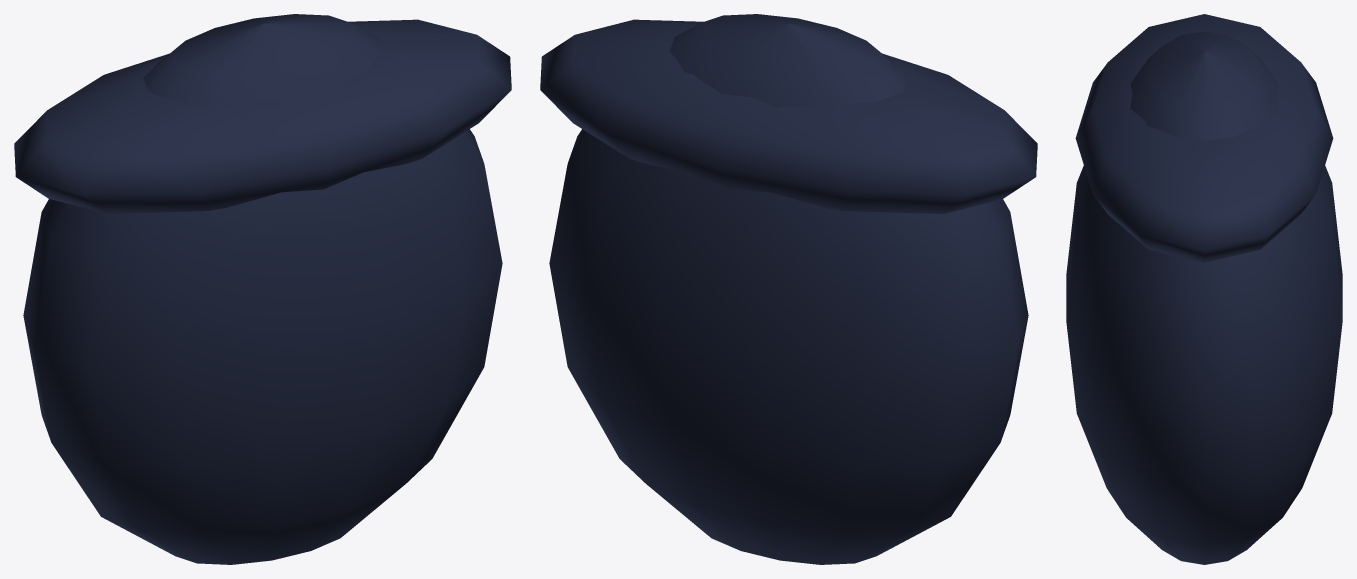
File: chest.obj
3 views of the same model, side by side, from view 1: azimuth 30°, elevation 25°; view 2: azimuth 150°, elevation 25°; view 3: azimuth 270°, elevation 25° (orthographic). The views are drawn at different scales.
Parts seen in each view (by area): view 1: chest; view 2: chest; view 3: chest.
Boxes of the visible parts, box(x1,y1,x2,y2) form: chest: box(14, 14, 511, 564); chest: box(540, 14, 1037, 564); chest: box(1066, 14, 1342, 564).
Size of the model in its own units: 0.3739 by 0.384 by 0.1956.
